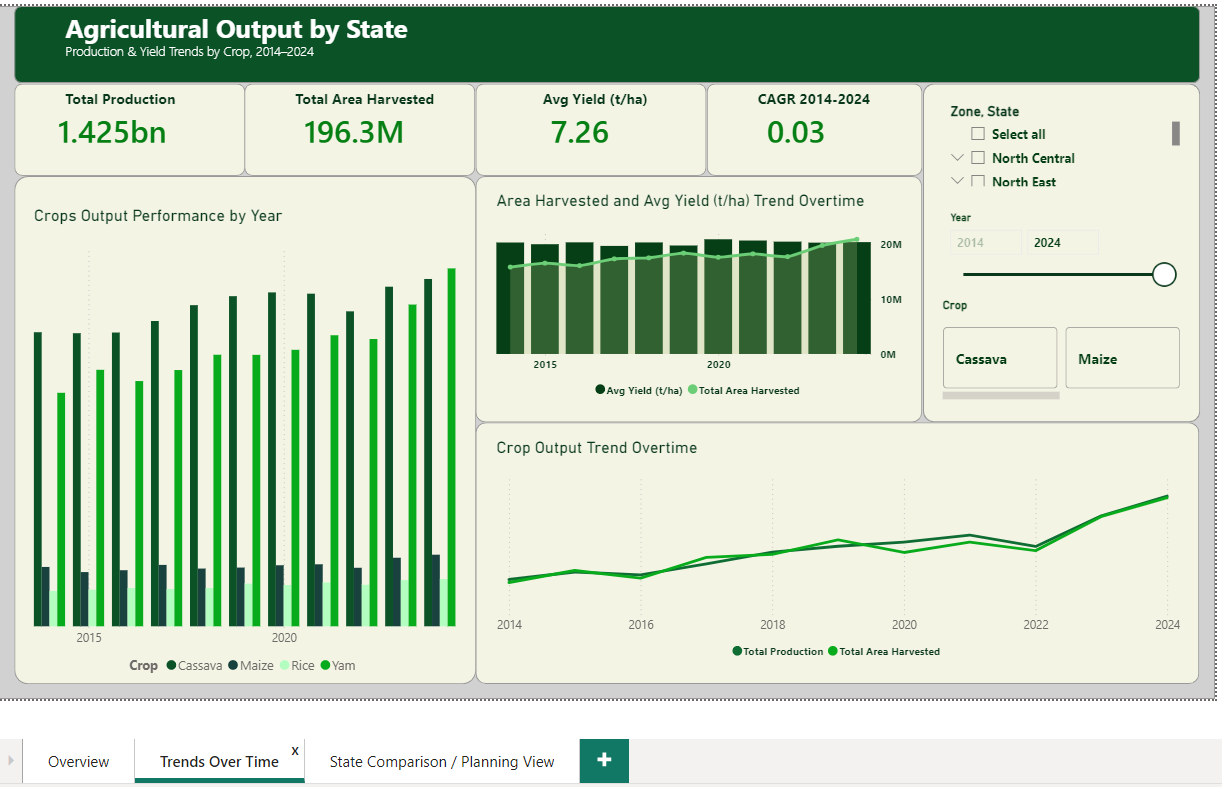

The dashboard page shown, as its layout file describes it:
{"tool":"powerbi","page":{"name":"Trends Over Time","canvas":[1280,720],"ordinal":1},"visuals":[{"type":"shape","box":[0,0,1280,720],"z":0},{"type":"shape","box":[32,0,1232,80],"z":1000},{"type":"shape","box":[32,176,480,528],"z":2000},{"type":"shape","box":[512,176,464,256],"z":3000},{"type":"shape","box":[512,432,752,272],"z":4000},{"type":"clusteredColumnChart","title":"Crops Output Performance by Year","fields":{"Category":["Dim_Year.Year"],"Y":["Fact_Crop Output.Total Production"],"Series":["Fact_Crop Output.Crop"]},"box":[48,208,448,496],"z":5000},{"type":"lineClusteredColumnComboChart","title":"Area Harvested and Avg Yield (t/ha) Trend Overtime","fields":{"Category":["Dim_Year.Year"],"Y2":["Fact_Crop Output.Total Area Harvested"],"Y":["Fact_Crop Output.Avg Yield (t/ha)"]},"box":[528,192,432,224],"z":6000},{"type":"lineChart","title":"Crop Output Trend Overtime ","fields":{"Category":["Dim_Year.Year"],"Y2":["Fact_Crop Output.Total Area Harvested"],"Y":["Fact_Crop Output.Total Production"]},"box":[528,448,720,240],"z":7000},{"type":"shape","box":[32,80,240,96],"z":8000},{"type":"shape","box":[272,80,240,96],"z":9000},{"type":"shape","box":[512,80,240,96],"z":10000},{"type":"shape","box":[752,80,224,96],"z":11000},{"type":"cardVisual","fields":{"Data":["Fact_Crop Output.Total Production"]},"box":[48,96,208,64],"z":12000},{"type":"cardVisual","fields":{"Data":["Fact_Crop Output.Total Area Harvested"]},"box":[304,96,176,64],"z":13000},{"type":"cardVisual","fields":{"Data":["Fact_Crop Output.Avg Yield (t/ha)"]},"box":[560,96,176,64],"z":14000},{"type":"cardVisual","fields":{"Data":["Dim_Year.CAGR 2014-2024"]},"box":[784,96,176,64],"z":15000},{"type":"textbox","box":[80,80,176,32],"z":16000},{"type":"textbox","box":[320,80,176,32],"z":17000},{"type":"textbox","box":[576,80,176,32],"z":18000},{"type":"textbox","box":[800,80,176,32],"z":19000},{"type":"shape","box":[976,80,288,352],"z":20000},{"type":"advancedSlicerVisual","fields":{"Values":["Fact_Crop Output.Crop"]},"box":[992,304,256,112],"z":21000},{"type":"slicer","fields":{"Values":["Dim_Year.Year"]},"box":[992,208,256,96],"z":22000},{"type":"slicer","fields":{"Values":["Dim_State.Zone","Dim_State.State"]},"box":[992,96,256,96],"z":23000},{"type":"textbox","box":[80,0,656,48],"z":24000},{"type":"textbox","box":[80,32,896,32],"z":25000}]}

Visuals, with their boxes on the page's 1280x720 design canvas (x1, y1, x2, y2). These are canvas units, not pixel positions in the 1222x787 screenshot, which may show the page scaled, cropped or inside an application window:
shape: bbox=[0, 0, 1280, 720]
shape: bbox=[32, 0, 1264, 80]
shape: bbox=[32, 176, 512, 704]
shape: bbox=[512, 176, 976, 432]
shape: bbox=[512, 432, 1264, 704]
"Crops Output Performance by Year" clusteredColumnChart: bbox=[48, 208, 496, 704]
"Area Harvested and Avg Yield (t/ha) Trend Overtime" lineClusteredColumnComboChart: bbox=[528, 192, 960, 416]
"Crop Output Trend Overtime " lineChart: bbox=[528, 448, 1248, 688]
shape: bbox=[32, 80, 272, 176]
shape: bbox=[272, 80, 512, 176]
shape: bbox=[512, 80, 752, 176]
shape: bbox=[752, 80, 976, 176]
cardVisual - Fact_Crop Output.Total Production: bbox=[48, 96, 256, 160]
cardVisual - Fact_Crop Output.Total Area Harvested: bbox=[304, 96, 480, 160]
cardVisual - Fact_Crop Output.Avg Yield (t/ha): bbox=[560, 96, 736, 160]
cardVisual - Dim_Year.CAGR 2014-2024: bbox=[784, 96, 960, 160]
textbox: bbox=[80, 80, 256, 112]
textbox: bbox=[320, 80, 496, 112]
textbox: bbox=[576, 80, 752, 112]
textbox: bbox=[800, 80, 976, 112]
shape: bbox=[976, 80, 1264, 432]
advancedSlicerVisual - Fact_Crop Output.Crop: bbox=[992, 304, 1248, 416]
slicer - Dim_Year.Year: bbox=[992, 208, 1248, 304]
slicer - Dim_State.Zone x Dim_State.State: bbox=[992, 96, 1248, 192]
textbox: bbox=[80, 0, 736, 48]
textbox: bbox=[80, 32, 976, 64]
